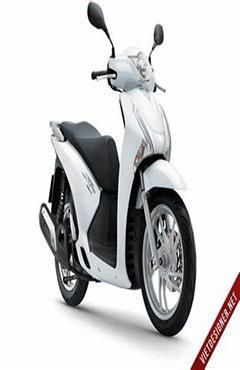motorcycle: (0, 0, 215, 350)
